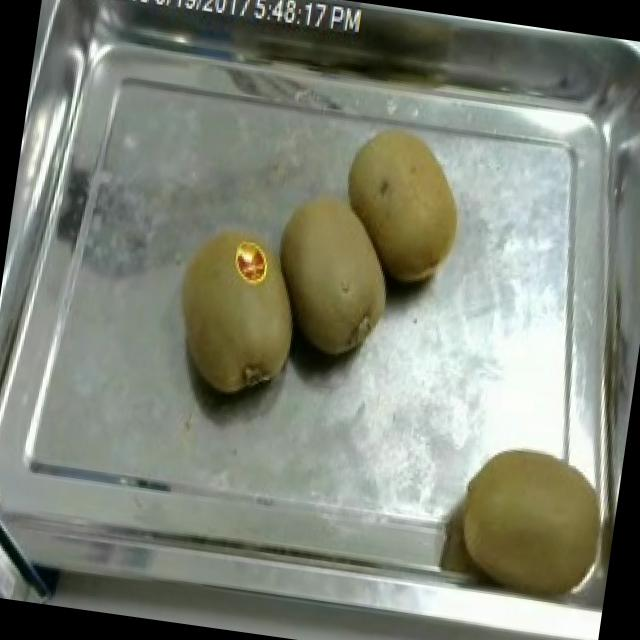Fruit: (442, 430, 622, 610), (160, 210, 316, 412), (258, 174, 412, 370), (326, 111, 484, 299)
